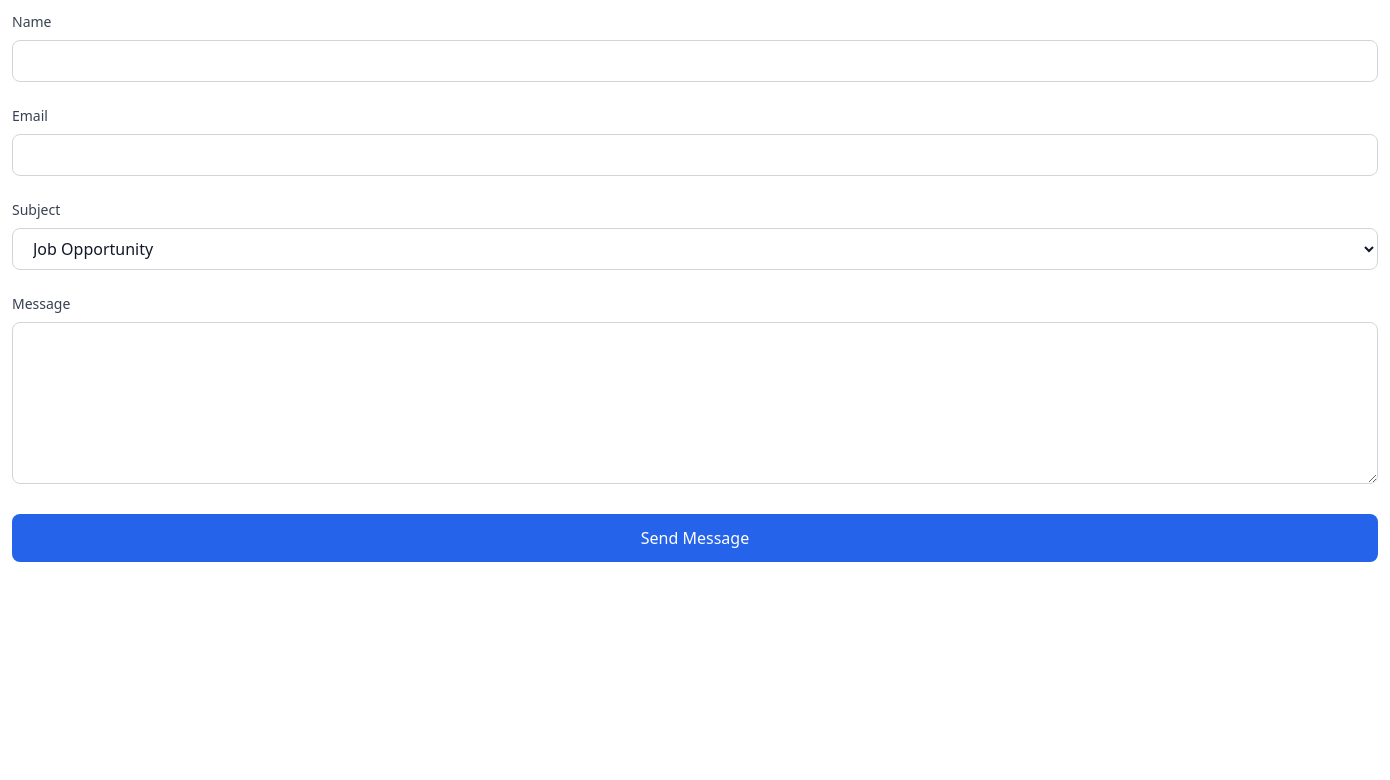
Scenario: ContactForm › should submit form successfully
Step 1. Type "Test User" into the field labelled "Name" → x=695, y=61, box x1=12 y1=40 x2=1378 y2=82
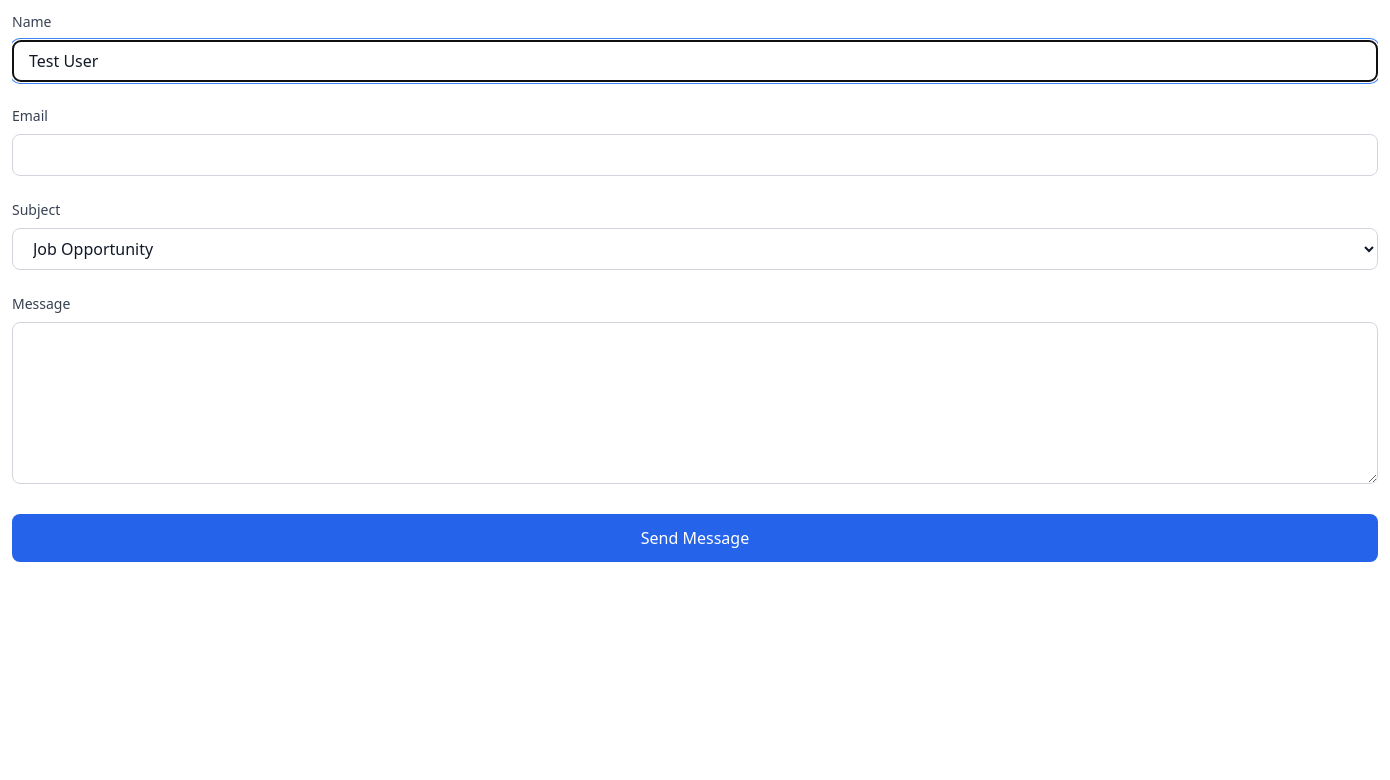
Step 2. Type "test@example.com" into the field labelled "Email" → x=695, y=155, box x1=12 y1=134 x2=1378 y2=176
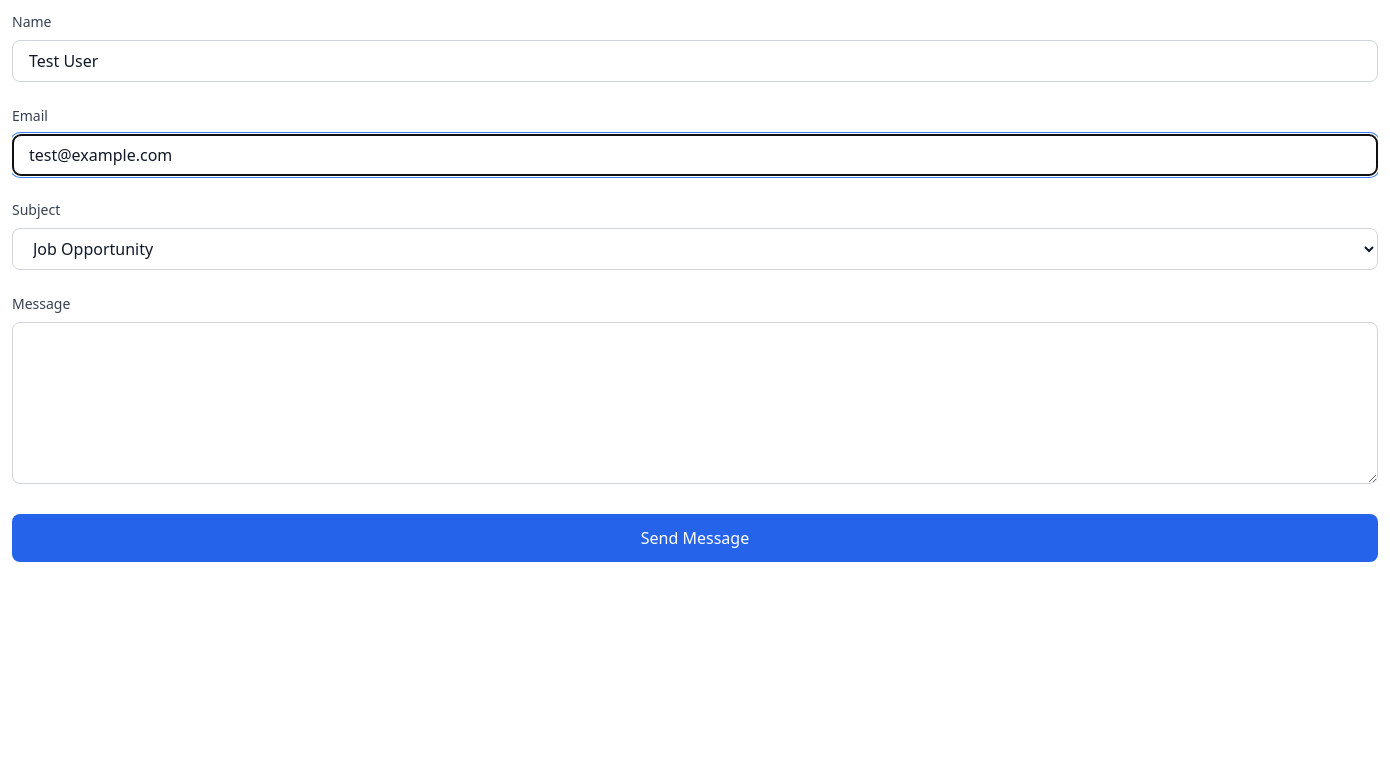
Step 3. Select "Question" in the dropdown labelled "Subject" → x=695, y=249, box x1=12 y1=228 x2=1378 y2=270
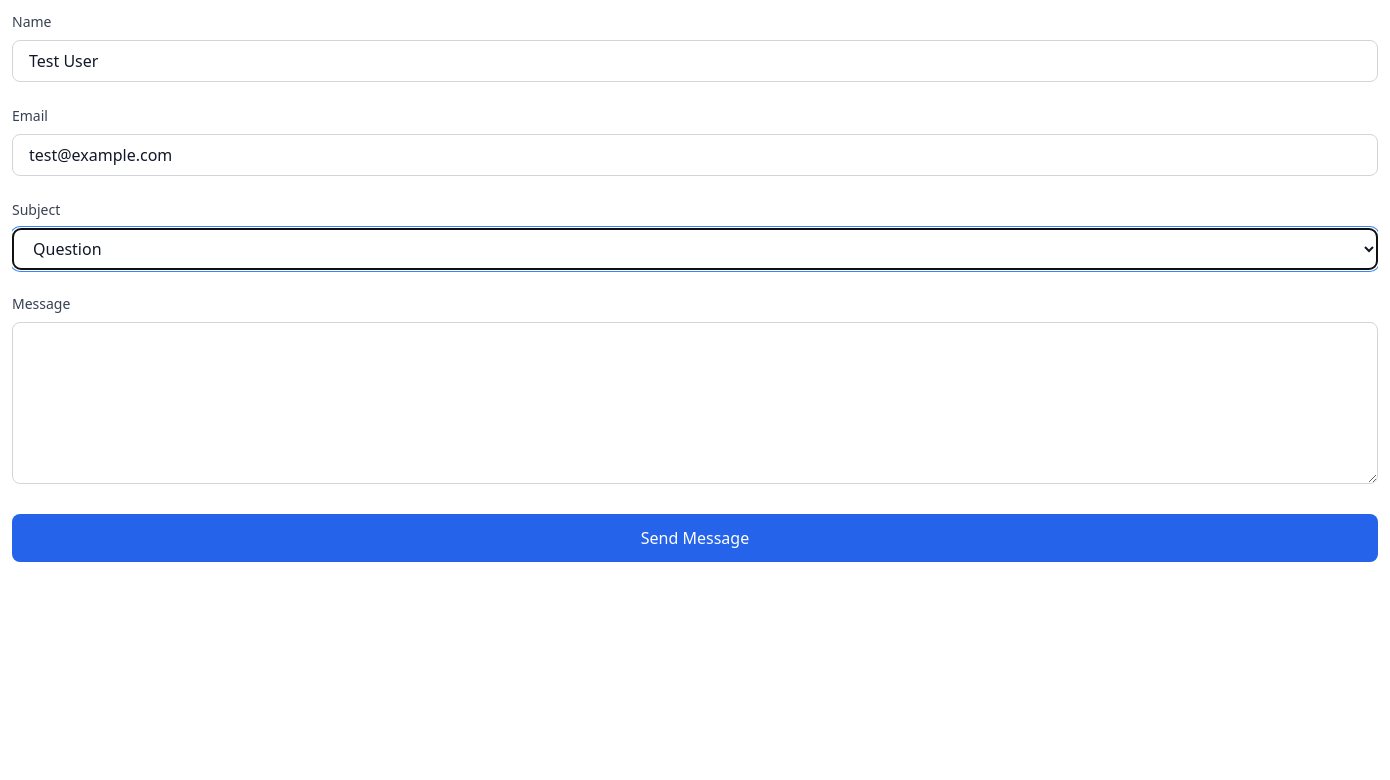
Step 4. Type "This is a test message" into the text box labelled "Message" → x=695, y=403, box x1=12 y1=322 x2=1378 y2=484
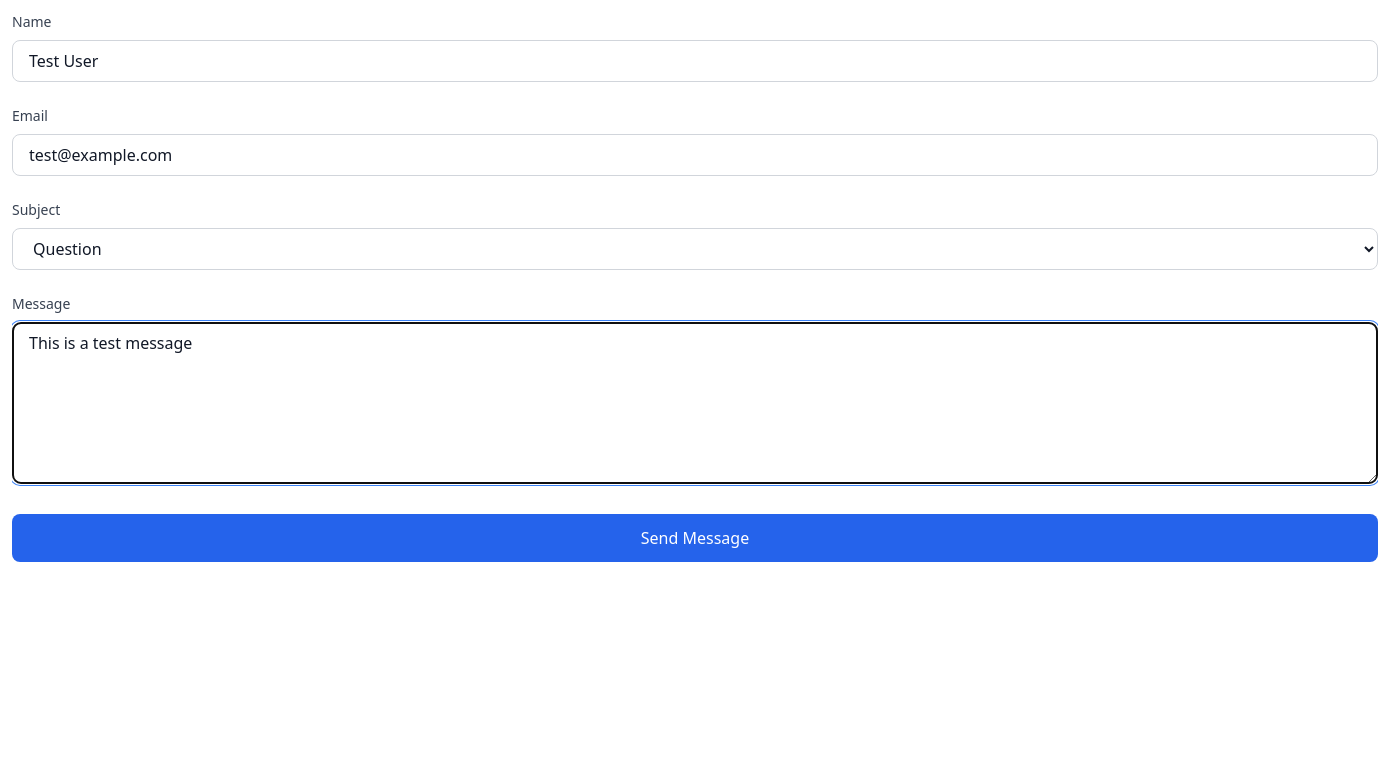
Step 5. Click the button "Send Message" → x=695, y=538, box x1=12 y1=514 x2=1378 y2=562
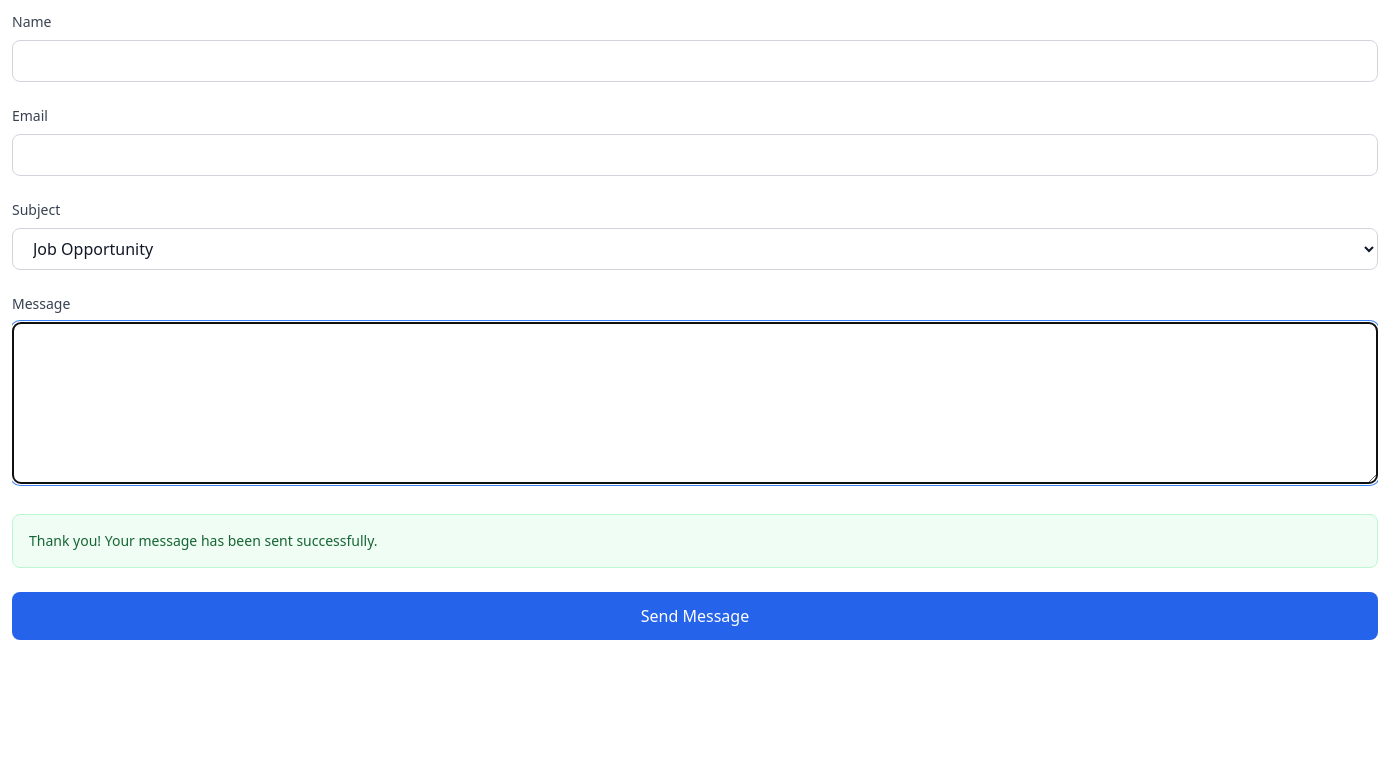
Now the text "Thank you! Your message has been sent successfully." is shown, box x1=29 y1=531 x2=378 y2=550
